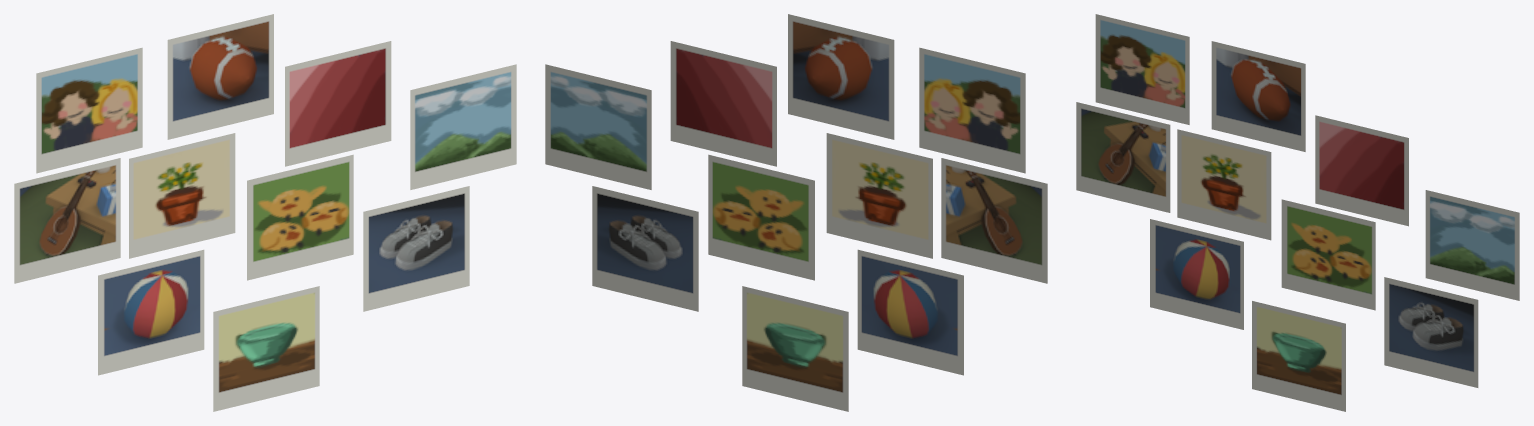
The model's file is 80_prop_picture.FBX.
The picture shows the model from 3 angles, left to right: view 1: azimuth 30°, elevation 25°; view 2: azimuth 150°, elevation 25°; view 3: azimuth 330°, elevation 25°; orthographic projection. The views are drawn at different scales.
Parts seen in each view (by area): view 1: prop_picture; view 2: prop_picture; view 3: prop_picture.
Part boxes in pixels (x1,y1,x2,y2): prop_picture: [14, 14, 516, 411]; prop_picture: [545, 14, 1047, 411]; prop_picture: [1076, 14, 1519, 411].
Size of the model in its own units: 83.78 by 61.06 by 2.67e-06.
